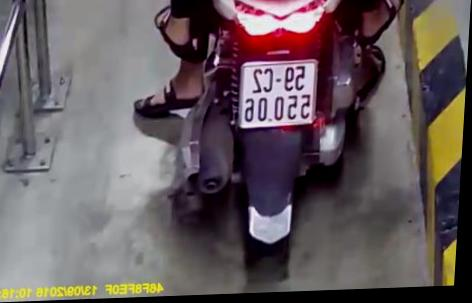License_Plate: (230, 53, 326, 138)
